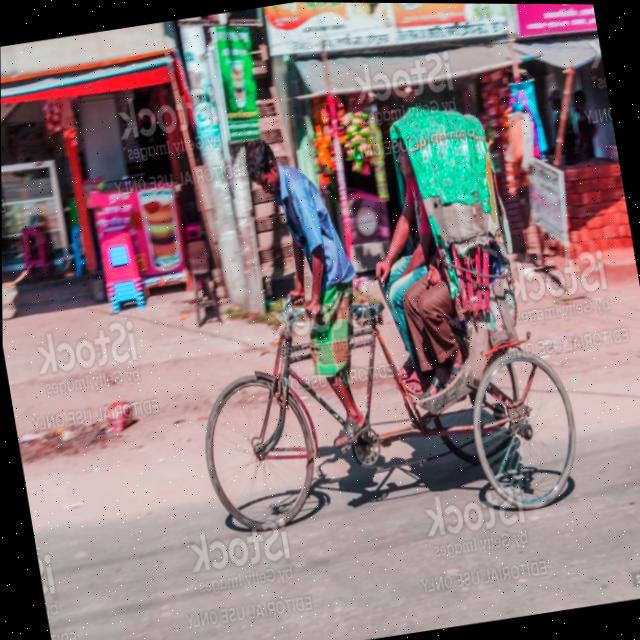rikshaw: (124, 71, 562, 543)
